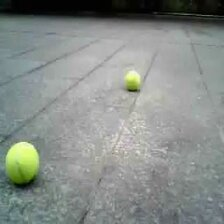tennis: (5, 142, 38, 183), (125, 71, 141, 89)
